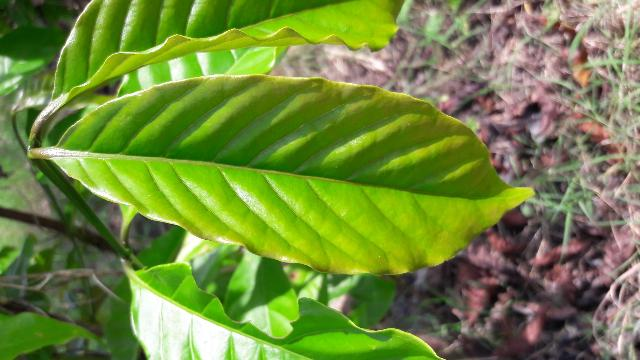healthy: (43, 78, 531, 274)
